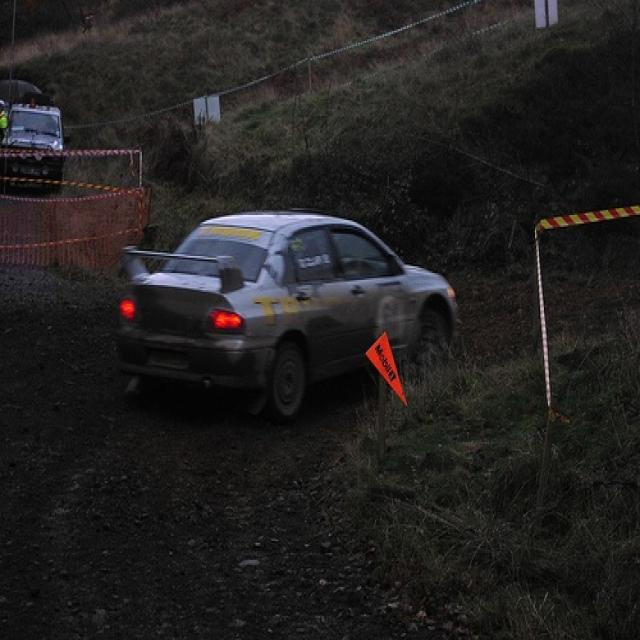car: (117, 212, 462, 422), (5, 101, 67, 191)
